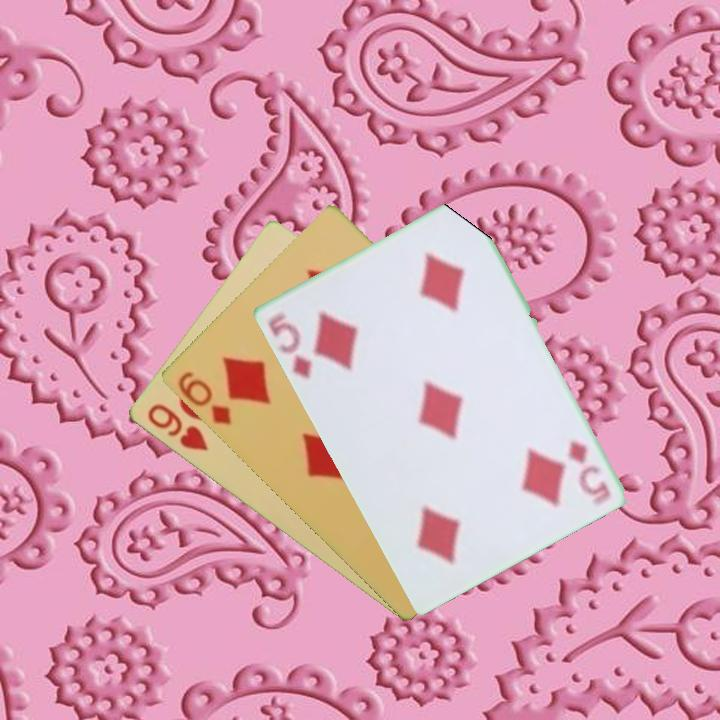5d: (263, 308, 314, 382), (564, 437, 613, 508)
6d: (174, 368, 234, 428)
9h: (143, 400, 211, 454)
